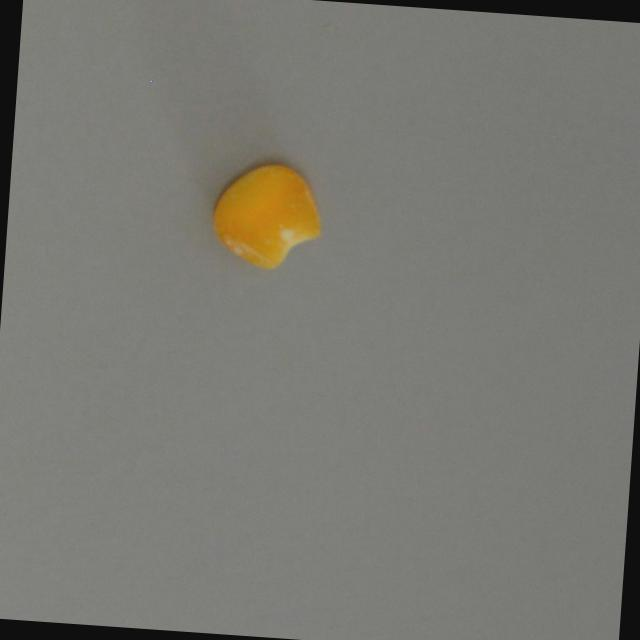dañado: (204, 152, 330, 280)
